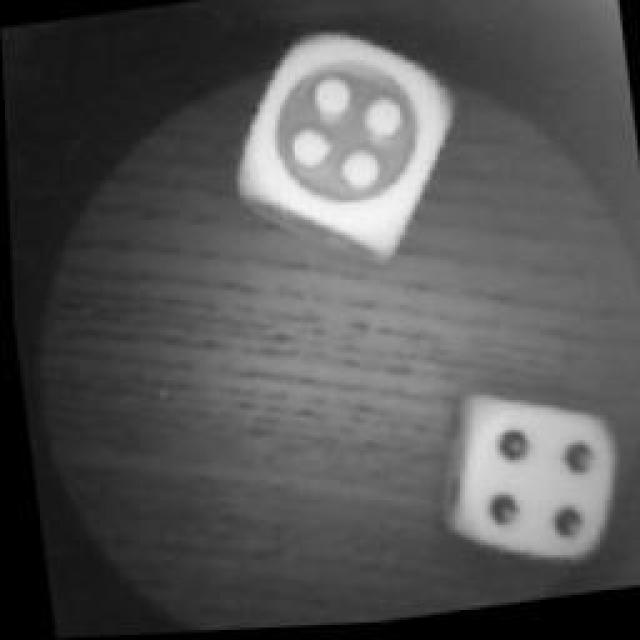dice_4: (228, 15, 462, 260), (432, 388, 628, 592)
